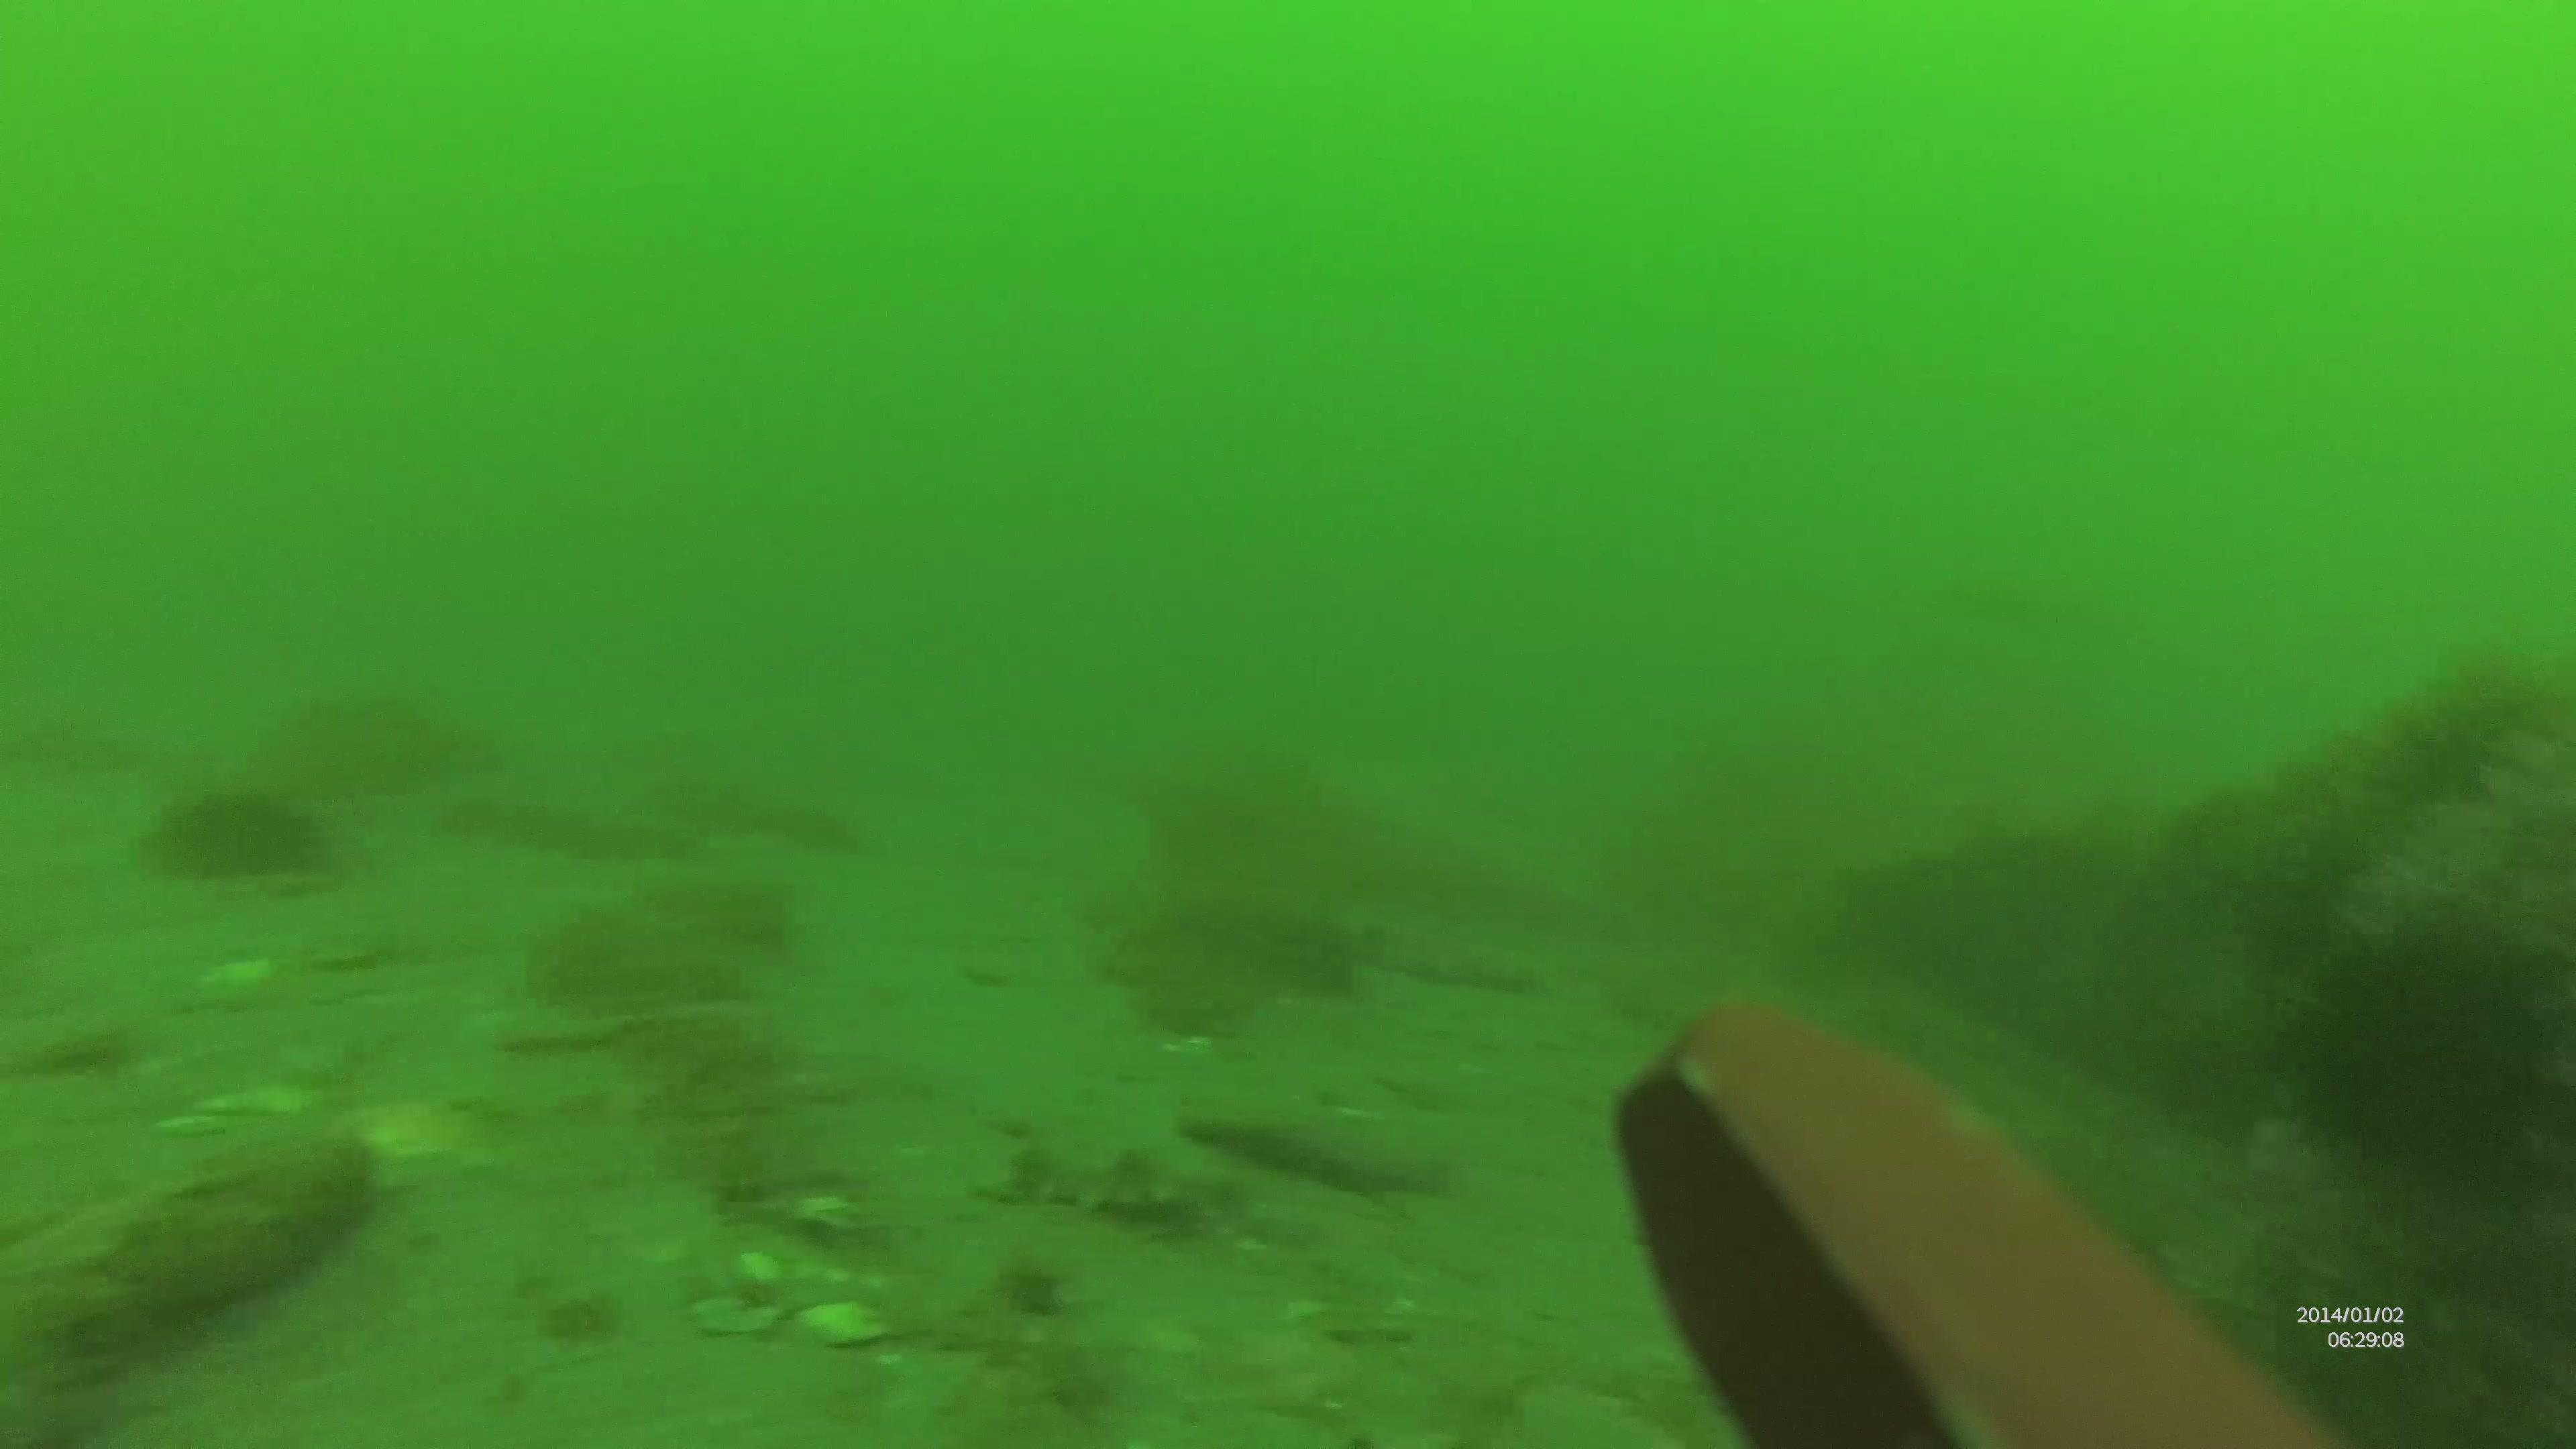holothurian: (998, 1136, 1244, 1230)
